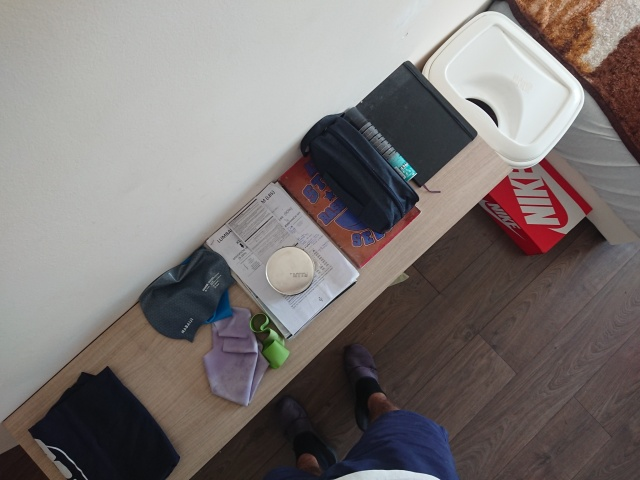Nescafe Classic 225g: (262, 243, 318, 299)
